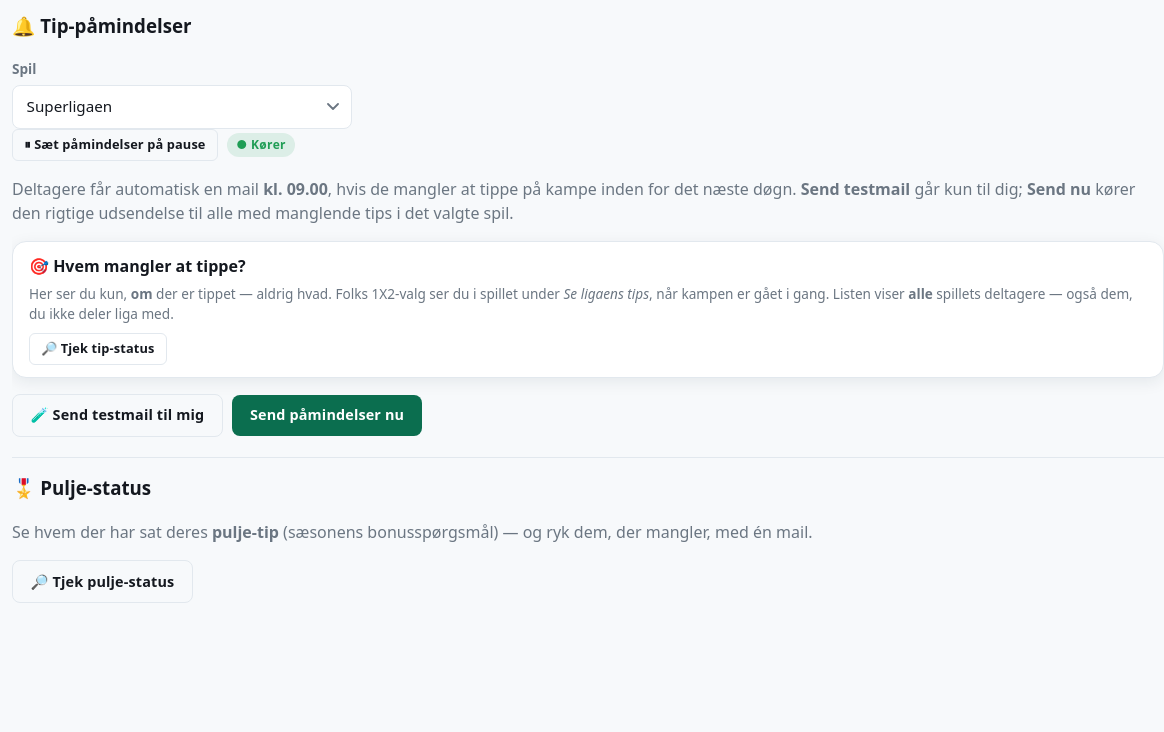
Send påmindelser nu — rapporten › melder FEJL, når afsendelser er slået fejl — ikke "Sendte 0"
Click the button "Send påmindelser nu". click: click(327, 415)
box: left=232, top=395, right=422, bottom=436
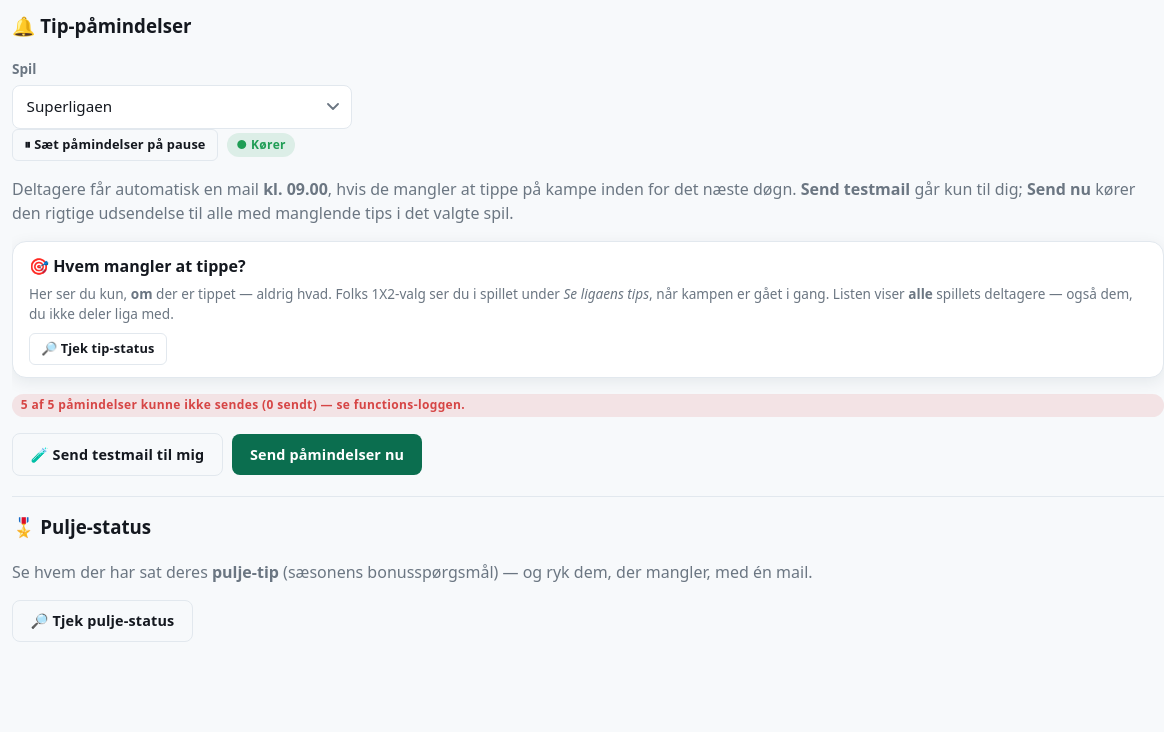
Expected: the text "5 af 5 påmindelser kunne ikke sendes" is shown, left=21, top=396, right=465, bottom=413
